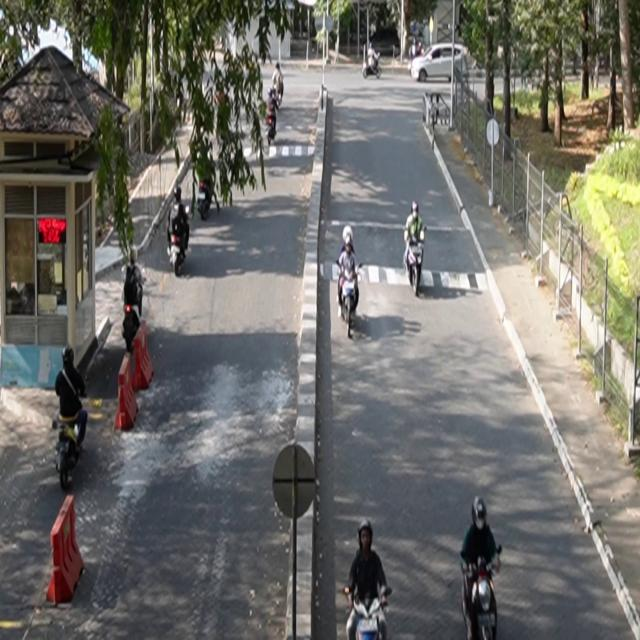car: (411, 43, 469, 83)
